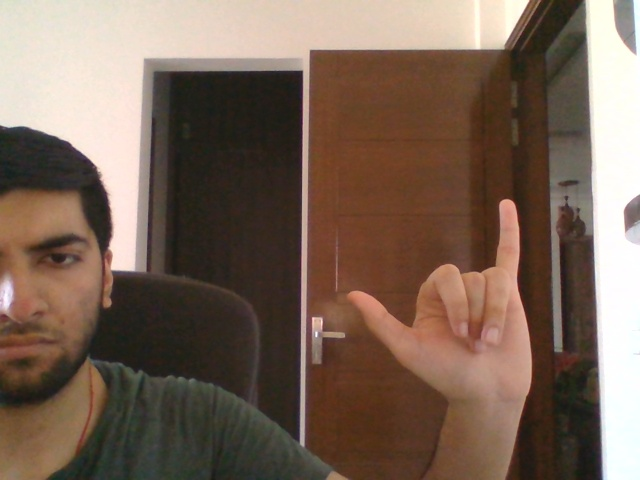LetterY: (344, 195, 536, 404)
